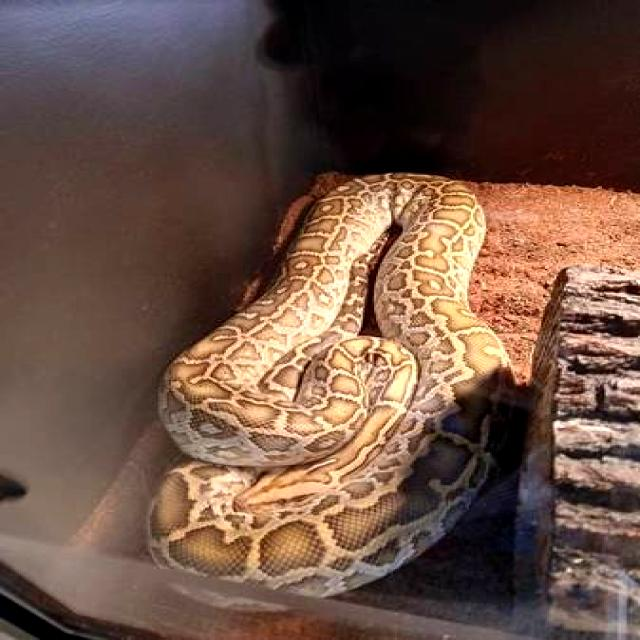Python bivittatus: (151, 174, 508, 595)
